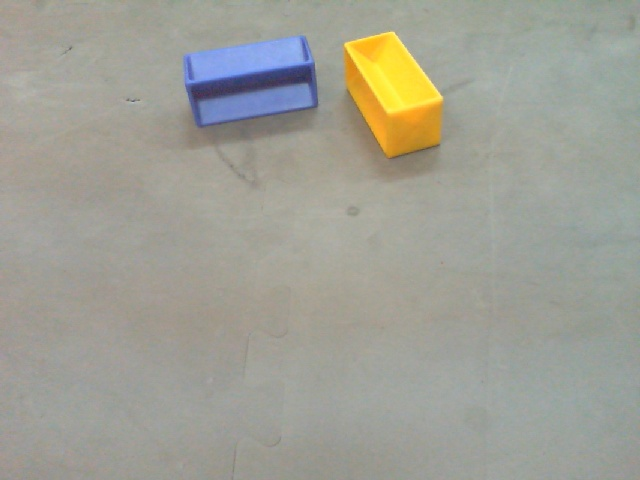BlueSample: (181, 32, 321, 130)
YellowSample: (342, 30, 444, 160)
